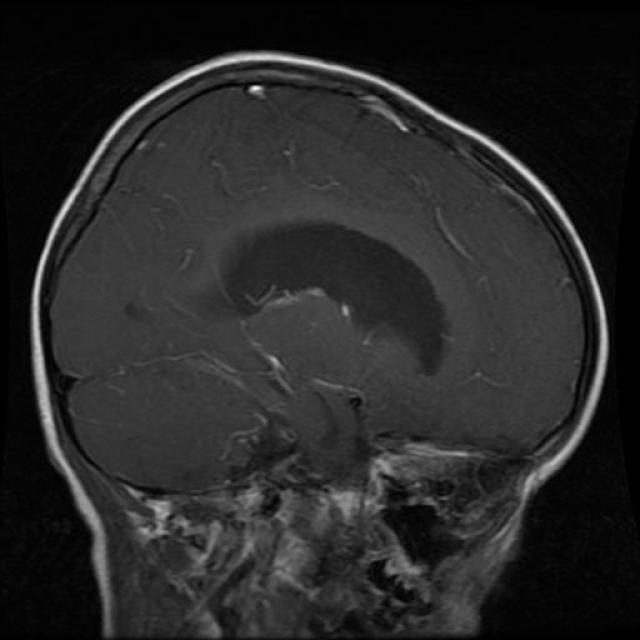glioma: (220, 206, 455, 376)
